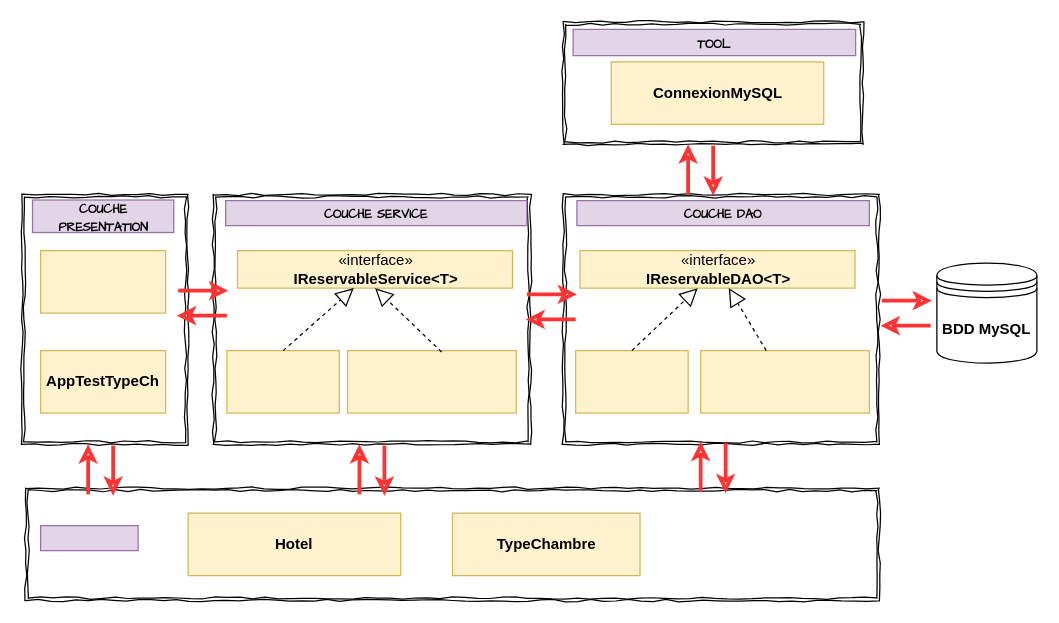
This 1059x623 diagram has some shape labels left out. Here are the shapes that lost their labels. From the top down, the centre of each, then its label:
(102,281): AppTestHotels
(282,381): HotelService
(431,381): TypeChambreService
(631,381): HotelDao
(784,381): TypeChambreDAO
(88,537): MODELE
